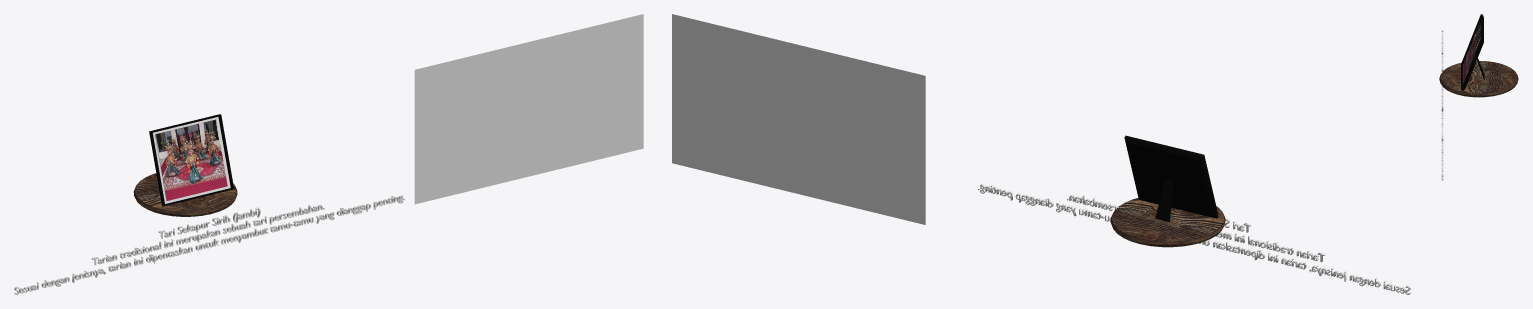
Rendered from 9. Tari sekapur sirih (Jambi).fbx.
3 views of the same model, side by side, from view 1: azimuth 30°, elevation 25°; view 2: azimuth 150°, elevation 25°; view 3: azimuth 270°, elevation 25° (orthographic). The views are drawn at different scales.
Parts seen in each view (by area): view 1: Plane, Cube.031, Text; view 2: Plane, Cube.031, Text; view 3: Cube.031, Text.
Boxes of the visible parts, bbox=[...] form: Plane: bbox=[414, 14, 643, 204]; Cube.031: bbox=[133, 114, 237, 216]; Text: bbox=[14, 195, 404, 294]; Plane: bbox=[672, 14, 925, 224]; Cube.031: bbox=[1110, 135, 1225, 247]; Text: bbox=[978, 184, 1410, 294]; Cube.031: bbox=[1439, 14, 1518, 97]; Text: bbox=[1441, 30, 1443, 180].
Size of the model in its own units: 9054 by 1800 by 1260.
6 materials, 3 textured.
